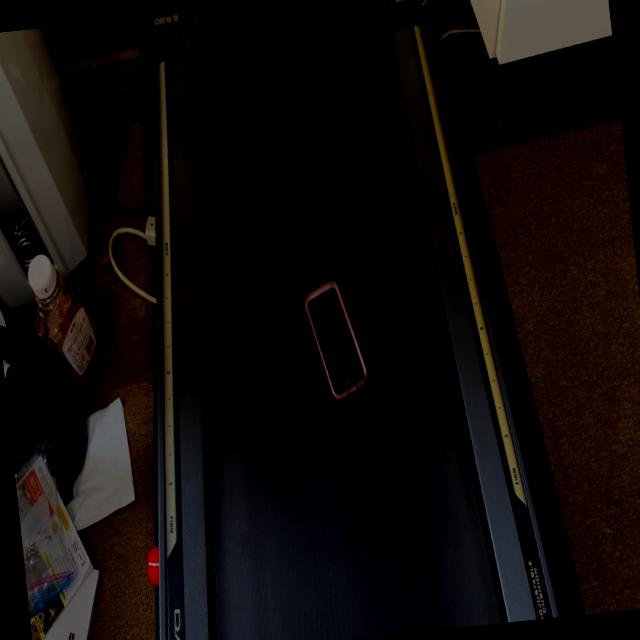Trash: (297, 271, 373, 408)
